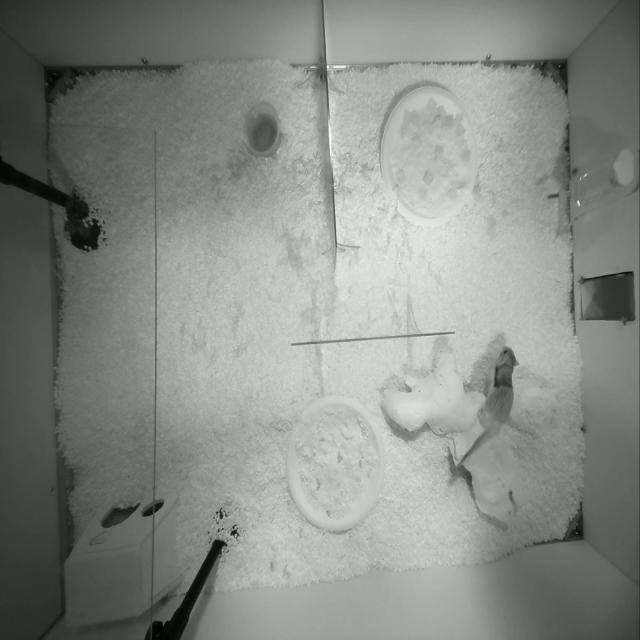adult_front: (457, 347, 518, 466)
